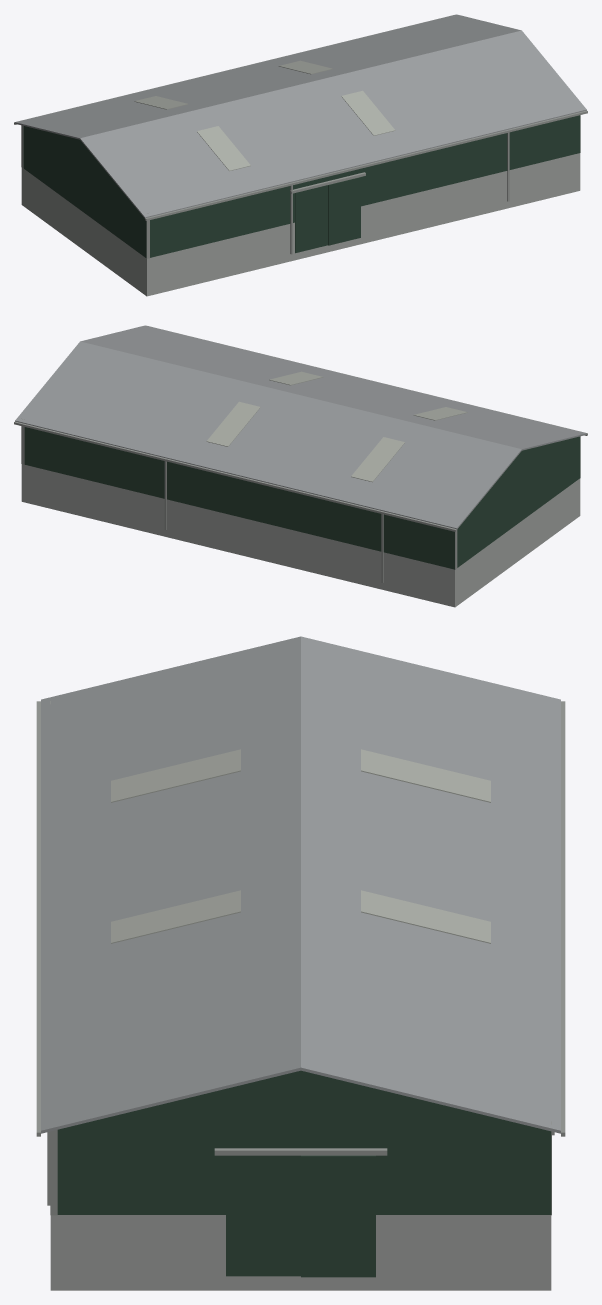
File: context.farm.portal_store.glb
3 renders of one model, top to bottom at view 1: azimuth 30°, elevation 25°; view 2: azimuth 150°, elevation 25°; view 3: azimuth 270°, elevation 25°, orthographic. The views are drawn at different scales.
Parts seen in each view (by area): view 1: main__clad_999, main__clad_354, main__concrete_aaa, main__steel_999, main__lens_aaa; view 2: main__clad_999, main__clad_354, main__concrete_aaa, main__lens_aaa, main__steel_999; view 3: main__clad_999, main__clad_354, main__concrete_aaa, main__lens_aaa, main__steel_999.
Part boxes in pixels (bbox=[...]): main__clad_999: bbox=[15, 14, 586, 218]; main__clad_354: bbox=[23, 115, 580, 258]; main__concrete_aaa: bbox=[21, 153, 580, 296]; main__steel_999: bbox=[14, 15, 587, 258]; main__lens_aaa: bbox=[134, 60, 395, 171]; main__clad_999: bbox=[15, 325, 586, 529]; main__clad_354: bbox=[24, 427, 580, 569]; main__concrete_aaa: bbox=[21, 464, 580, 607]; main__lens_aaa: bbox=[206, 371, 467, 482]; main__steel_999: bbox=[14, 326, 587, 582]; main__clad_999: bbox=[41, 636, 560, 1133]; main__clad_354: bbox=[57, 1070, 551, 1277]; main__concrete_aaa: bbox=[50, 1215, 551, 1290]; main__lens_aaa: bbox=[111, 749, 490, 943]; main__steel_999: bbox=[36, 701, 565, 1215].
Bounding box in the file's own units: 36.7 × 9.01 × 19.02.
